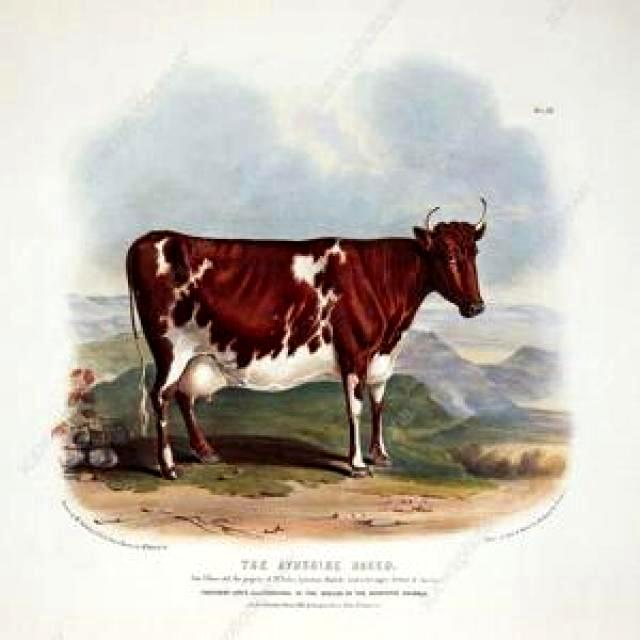COW: (126, 222, 485, 478)
